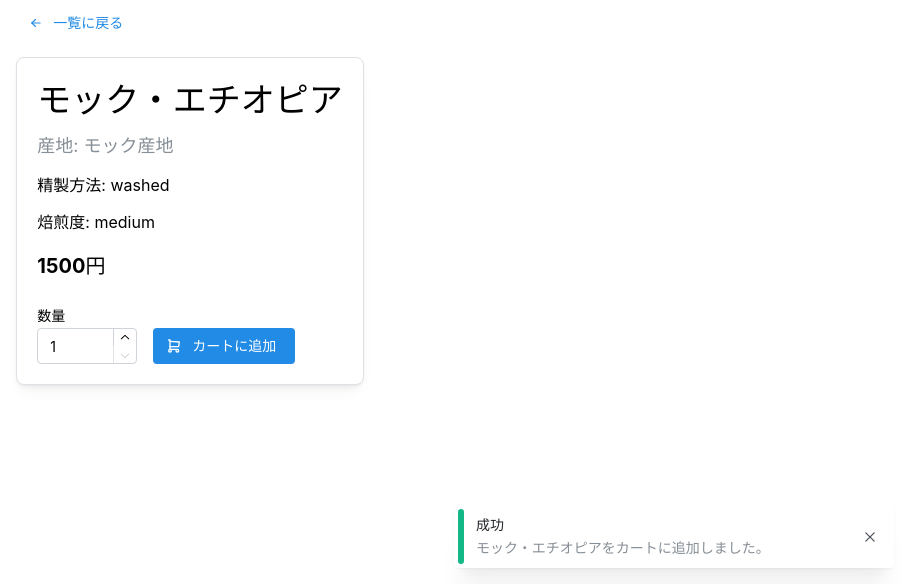
Test: カート追加APIが失敗した場合、エラー通知が表示される
Click the button "カートに追加" at (224, 346), box [153,328,295,364]
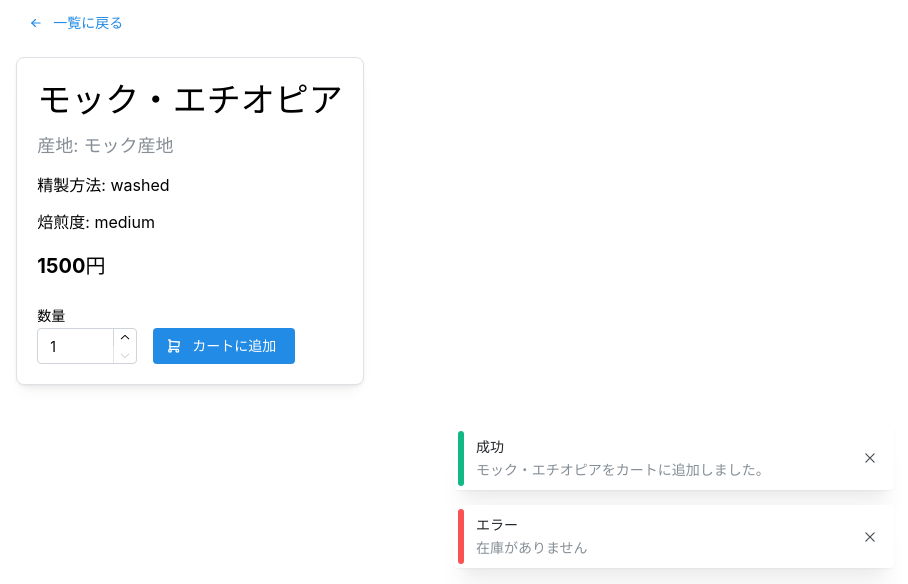
Now the text "在庫がありません" is shown, box [476,539,588,556]
